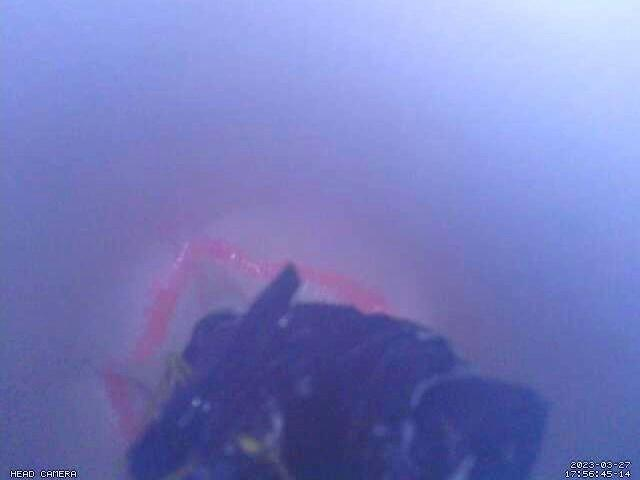head: (100, 238, 389, 442)
